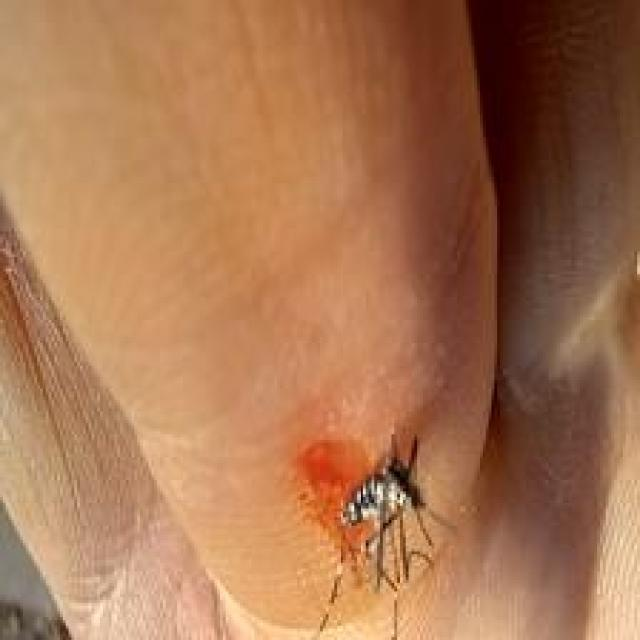Aedes albopictus: (296, 431, 458, 640)
